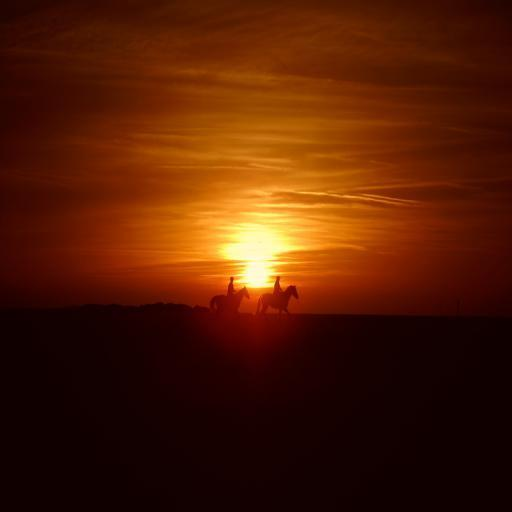horse: (254, 284, 298, 322), (206, 285, 254, 318)
